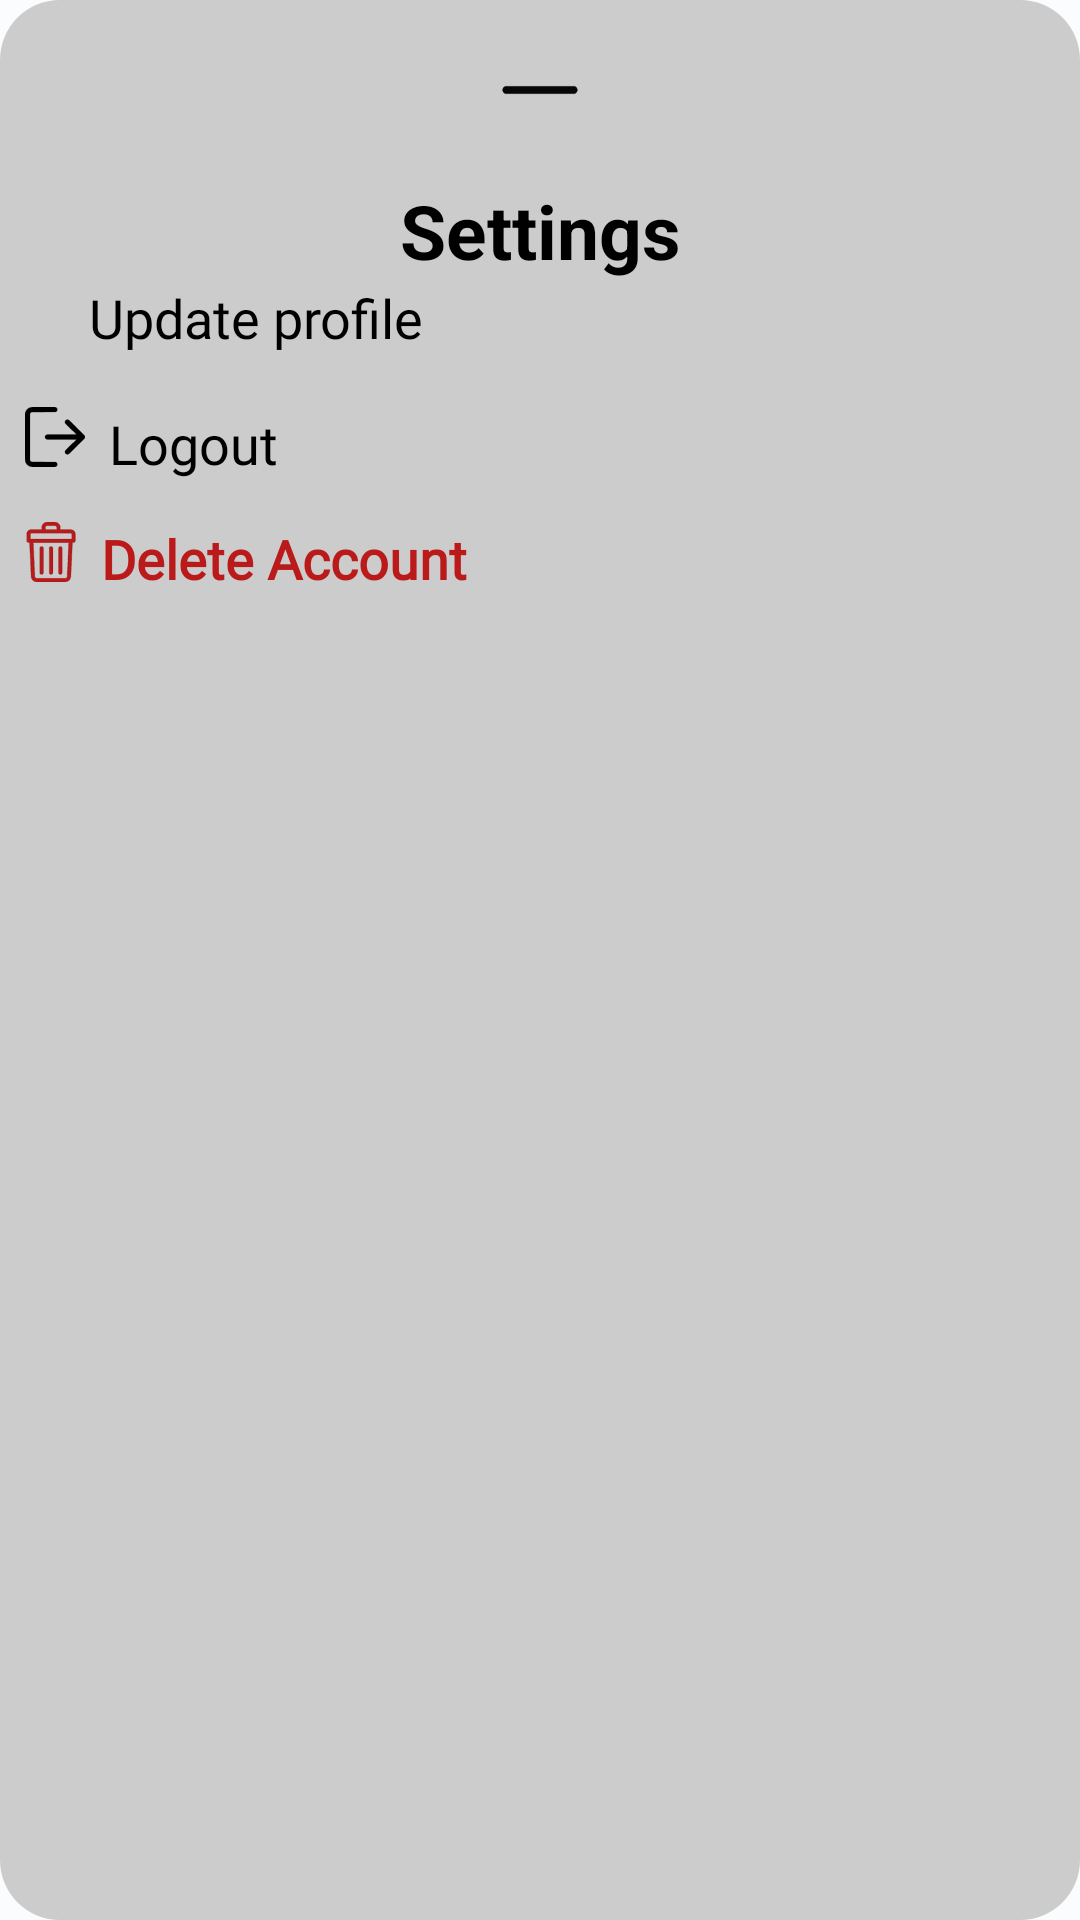

Named icons in this screenshot (1080 × 1920) and their bounding boxes, [x1,y1,x2,y2]:
delete person: [26,522,76,582]
